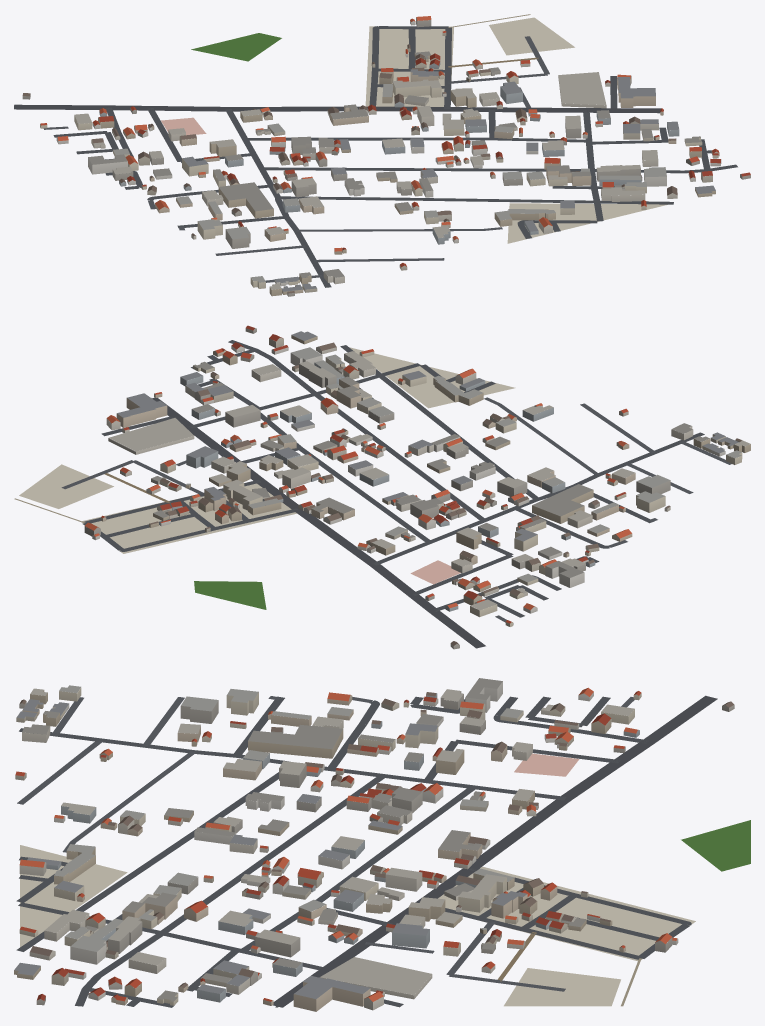
3 views of the same model, one above another, from view 1: azimuth 30°, elevation 25°; view 2: azimuth 150°, elevation 25°; view 3: azimuth 270°, elevation 25° (orthographic). The views are drawn at different scales.
Parts seen in each view (by area): view 1: buildings_roofs, buildings_walls, roads, landuse; view 2: buildings_walls, buildings_roofs, roads, landuse; view 3: buildings_roofs, buildings_walls, roads, landuse.
Part boxes in pixels (left/top/right/bottom): buildings_roofs: left=22, top=16, right=750, bottom=293; buildings_walls: left=22, top=17, right=750, bottom=296; roads: left=14, top=14, right=737, bottom=287; landuse: left=161, top=17, right=667, bottom=243; buildings_walls: left=84, top=328, right=750, bottom=649; buildings_roofs: left=85, top=325, right=750, bottom=645; roads: left=14, top=340, right=731, bottom=648; landuse: left=19, top=347, right=515, bottom=609; buildings_roofs: left=14, top=678, right=733, bottom=1001; buildings_walls: left=14, top=681, right=734, bottom=1011; roads: left=16, top=695, right=717, bottom=1007; landuse: left=20, top=753, right=750, bottom=1006.
Size of the model in its own units: 520 by 9.58 by 504.
